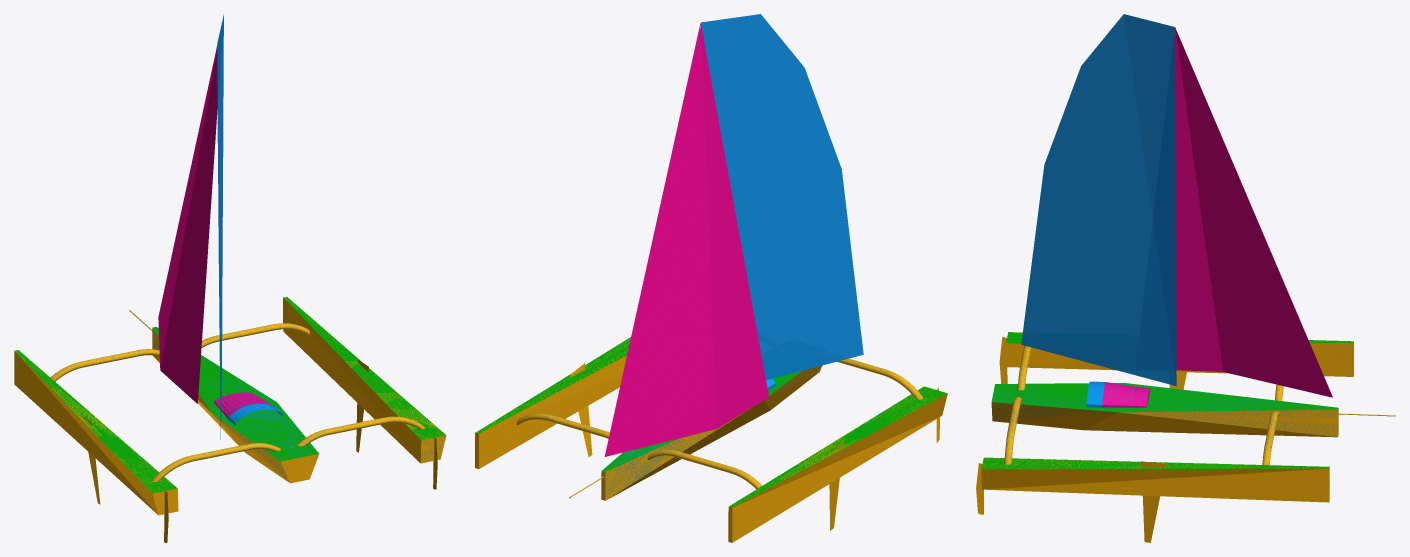
Rendered from TRIMARAN_GENNAKER_TRIBORD.dae.
3 renders of one model, left to right at view 1: azimuth 30°, elevation 25°; view 2: azimuth 150°, elevation 25°; view 3: azimuth 270°, elevation 25°, orthographic. The views are drawn at different scales.
Parts seen in each view (by area): view 1: SketchUp (×15); view 2: SketchUp (×13); view 3: SketchUp (×13).
Boxes of the visible parts, x1,y1,x2,y2 form: SketchUp (×15): (14, 15, 446, 515); SketchUp (×13): (475, 14, 947, 542); SketchUp (×13): (981, 14, 1353, 542).
Size of the model in its own units: 90181 by 111154 by 134008.
